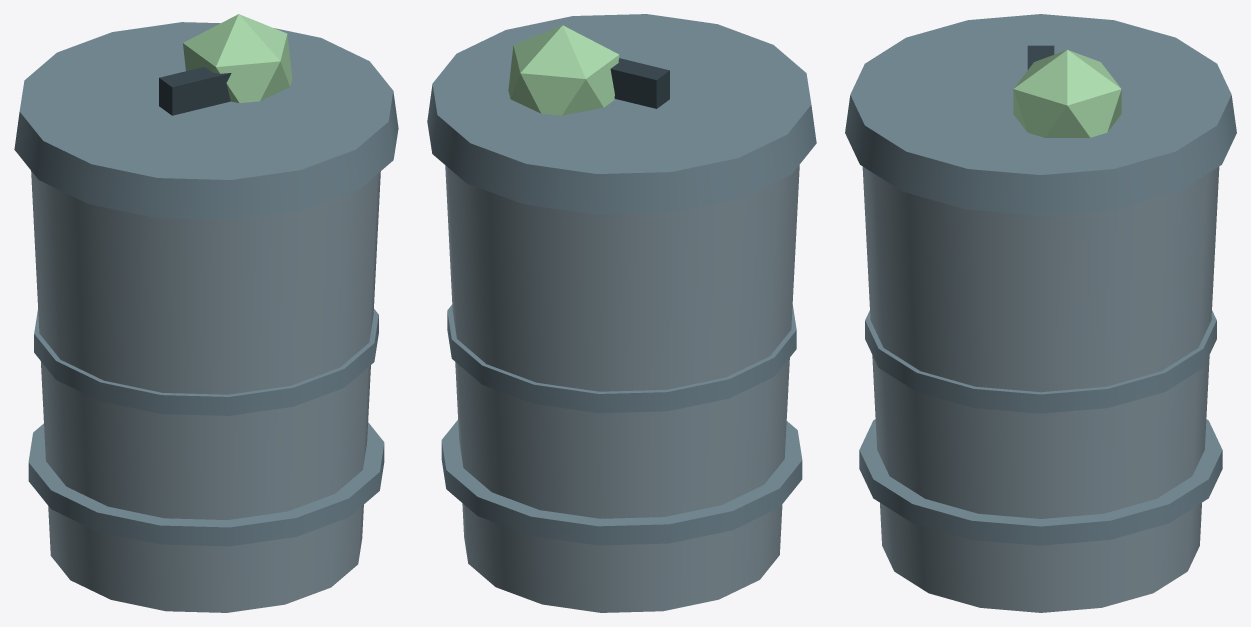
Rendered from streets_trashcan.glb.
3 views of the same model, side by side, from view 1: azimuth 30°, elevation 25°; view 2: azimuth 150°, elevation 25°; view 3: azimuth 270°, elevation 25° (orthographic).
Parts seen in each view (by area): view 1: TrashCan_body; view 2: TrashCan_body; view 3: TrashCan_body.
Boxes of the visible parts, x1,y1,x2,y2 form: TrashCan_body: [14, 14, 398, 612]; TrashCan_body: [427, 14, 816, 612]; TrashCan_body: [845, 14, 1236, 612].
Size of the model in its own units: 0.74 by 1.08 by 0.74.
